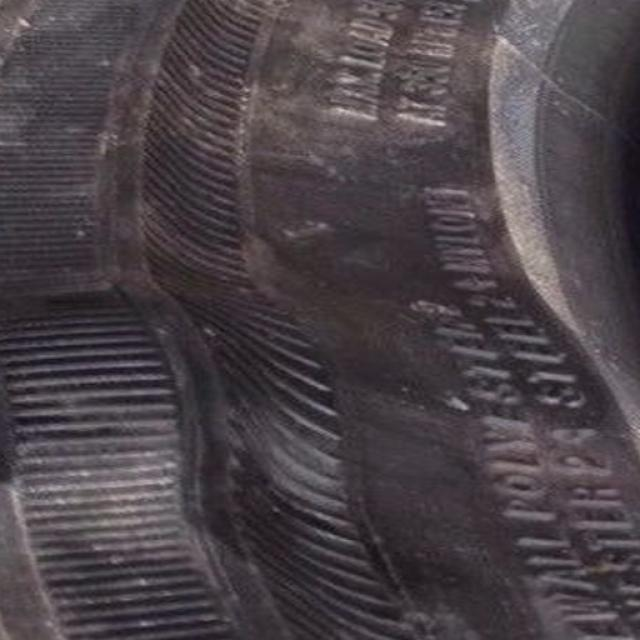Bulge: (0, 260, 386, 582)
